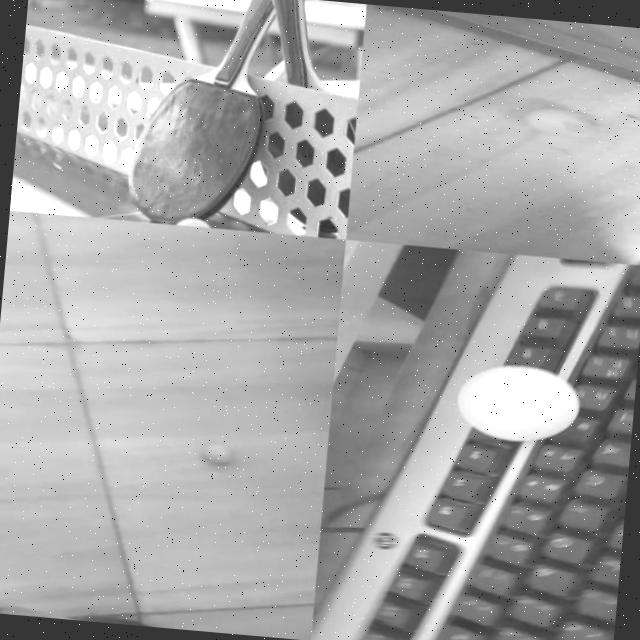ping-pong-ball: (454, 358, 584, 444), (520, 104, 606, 136), (199, 438, 235, 463)
